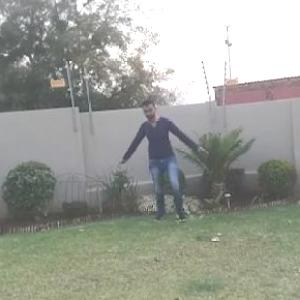land: (109, 95, 213, 232)
